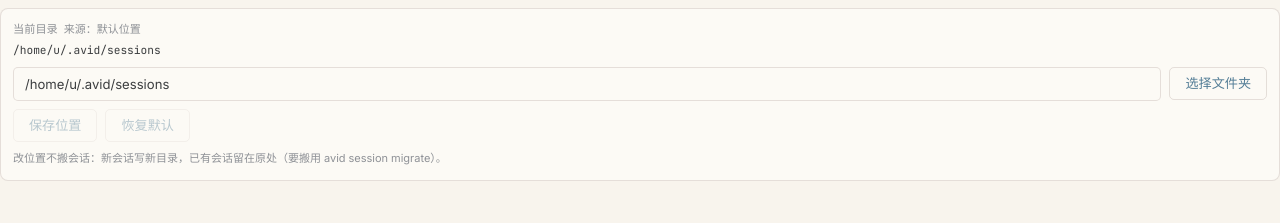
Test: SessionsSection（设置 · 会话存储） › 输入新路径后保存：把新目录写进服务端，并说明旧会话留在原处
This screenshot has width=1280, height=223.
Replace the text in the field named "会话目录" with "/data/avid-sessions": (587, 84) [13,67,1161,101]
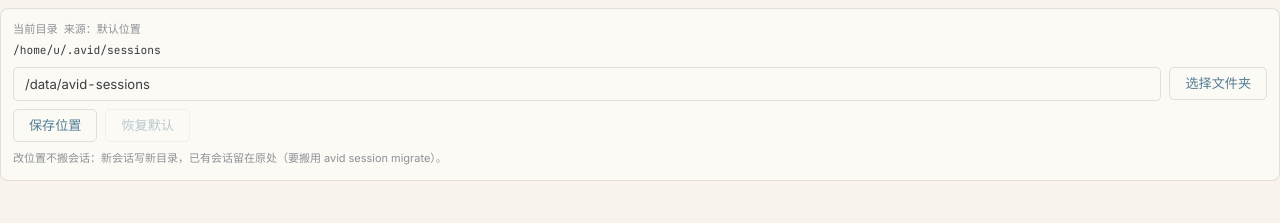
Click the button "保存位置": (55, 125) [13,109,98,142]
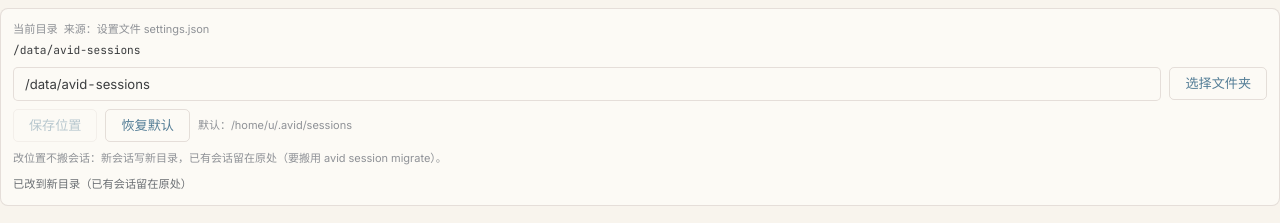
Result: the text "已改到新目录（已有会话留在原处）" is shown at [13,177,192,191]
